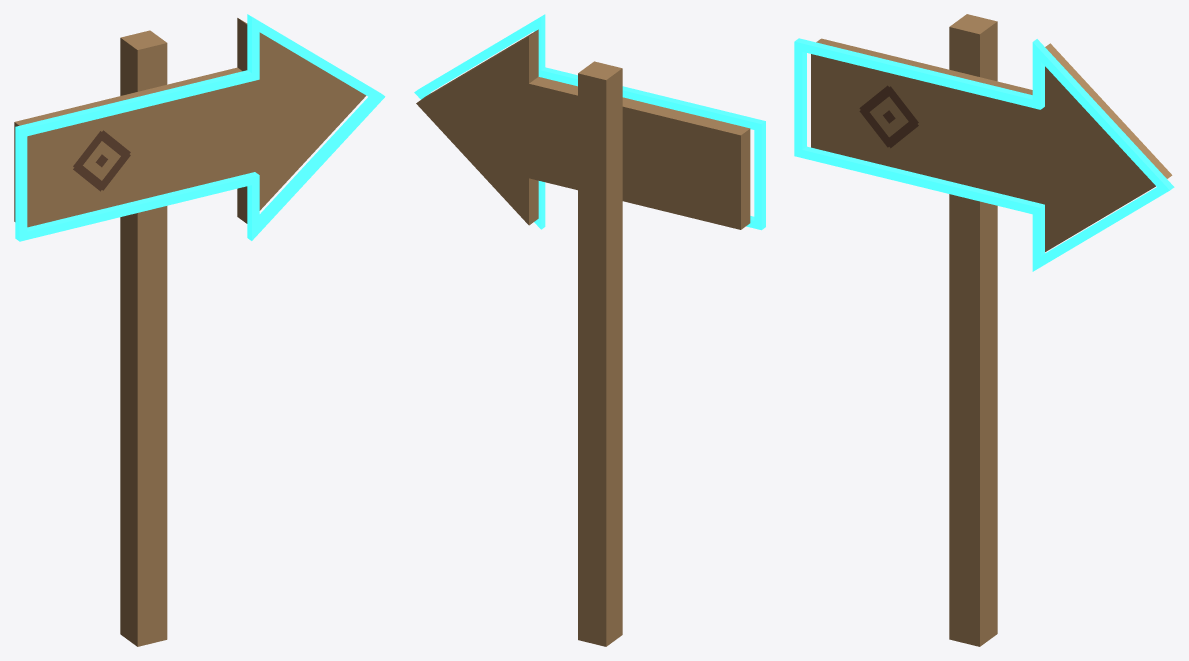
The model's file is Prop_Sign_Arrow_A.fbx.
The picture shows the model from 3 angles, left to right: view 1: azimuth 30°, elevation 25°; view 2: azimuth 150°, elevation 25°; view 3: azimuth 330°, elevation 25°; orthographic projection. The views are drawn at different scales.
Parts seen in each view (by area): view 1: Prop_Sign_Arrow_A; view 2: Prop_Sign_Arrow_A; view 3: Prop_Sign_Arrow_A.
Part boxes in pixels (box(x1,y1,x2,y2)): Prop_Sign_Arrow_A: box(14, 14, 385, 646); Prop_Sign_Arrow_A: box(414, 14, 765, 646); Prop_Sign_Arrow_A: box(794, 14, 1174, 646).
Bounding box in the file's own units: 1.48 × 2.38 × 0.2356.
